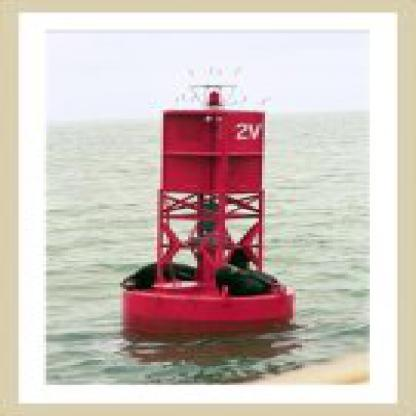buoy: (111, 58, 302, 333)
